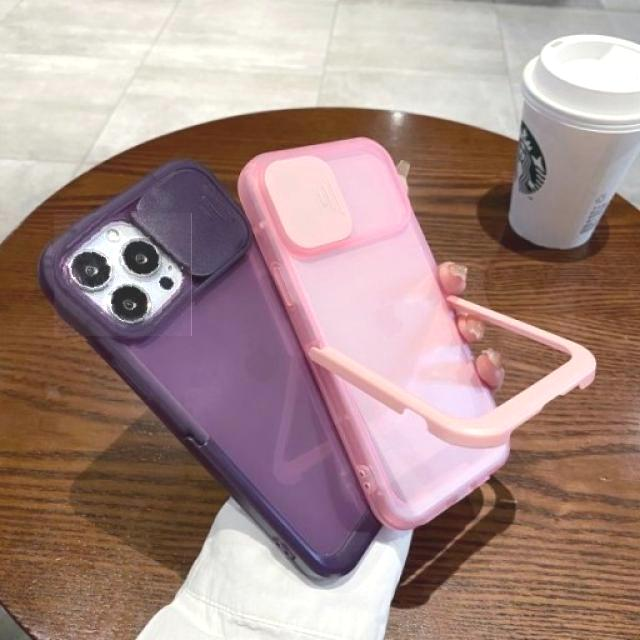lens: (67, 223, 175, 325)
phone: (48, 164, 385, 572)
